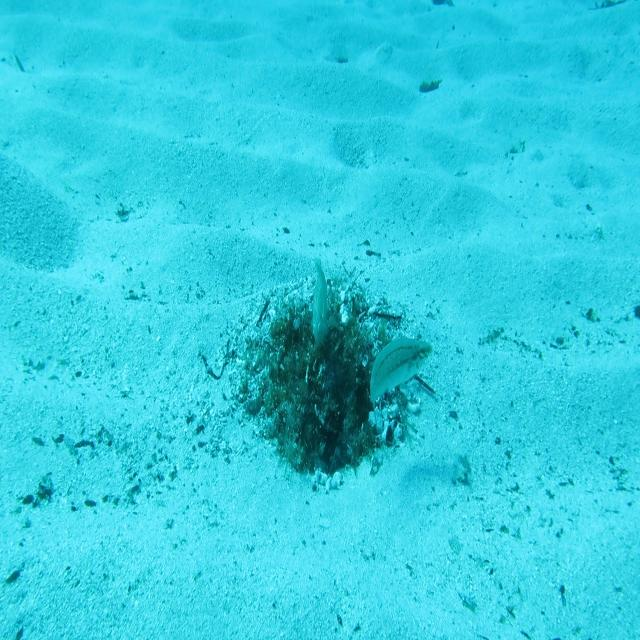NIP_CORE: (308, 253, 334, 354)
core_nest: (298, 323, 342, 373)
female: (368, 333, 434, 435)
nest: (219, 252, 434, 506)
vegetation: (417, 76, 442, 94)
